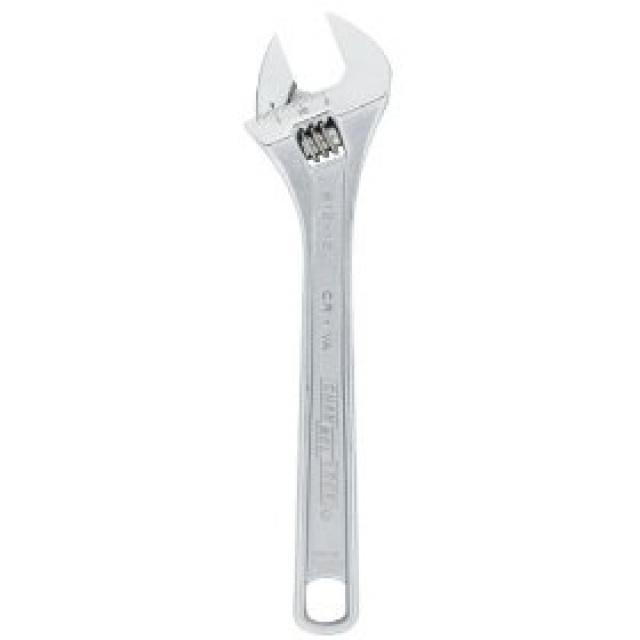wrench: (235, 2, 400, 640)
